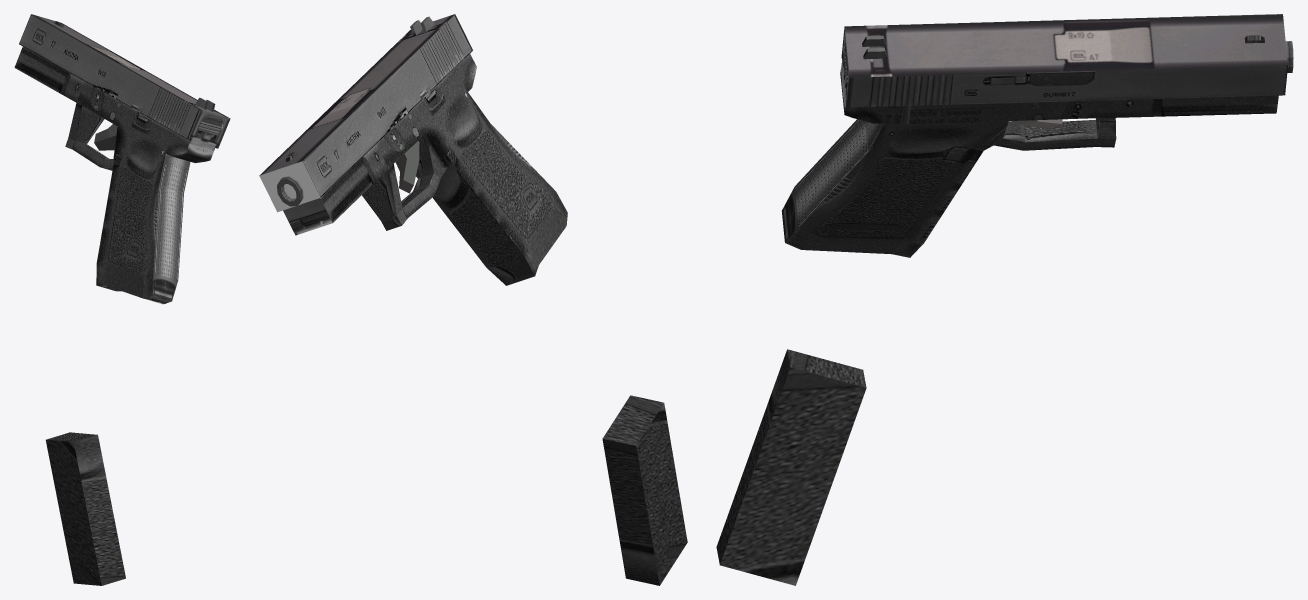
Rendered from pistolet_000024.obj.
3 views of the same model, side by side, from view 1: azimuth 30°, elevation 25°; view 2: azimuth 150°, elevation 25°; view 3: azimuth 270°, elevation 25° (orthographic). The views are drawn at different scales.
Parts seen in each view (by area): view 1: Cube.004, Cube.001, Cube.002, Cube.003; view 2: Cube.004, Cube.001, Cube.002, Cube.003; view 3: Cube.001, Cube.004, Cube.002.
Part boxes in pixels (bbox=[...]): Cube.004: bbox=[14, 46, 214, 304]; Cube.001: bbox=[19, 14, 230, 148]; Cube.002: bbox=[45, 432, 125, 585]; Cube.003: bbox=[94, 124, 117, 150]; Cube.004: bbox=[277, 54, 567, 285]; Cube.001: bbox=[259, 14, 472, 212]; Cube.002: bbox=[602, 395, 687, 585]; Cube.003: bbox=[395, 141, 419, 193]; Cube.001: bbox=[841, 14, 1287, 107]; Cube.004: bbox=[781, 41, 1293, 257]; Cube.002: bbox=[716, 349, 866, 585].
Bounding box in the file's own units: 0.7044 × 1.59 × 1.28.
3 materials, 3 textured.
